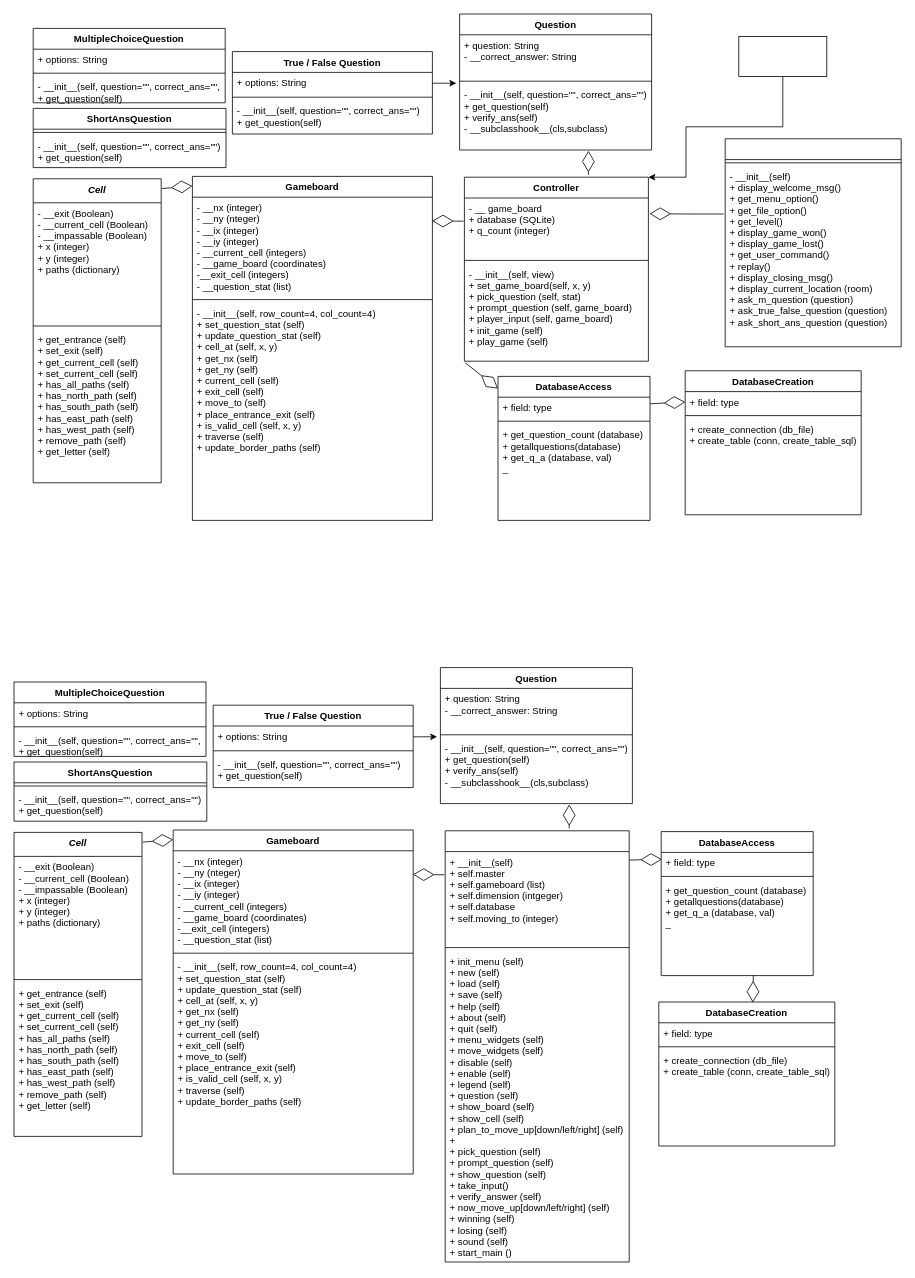
Image size: 915x1278. Some labels were removed from this diagram. The box of each missing label's shape, as (x1, y1, x2, y2) in pixels:
GUI: (738, 36, 827, 76)
TriviaGUI: (444, 830, 629, 1262)
View: (724, 138, 901, 347)
